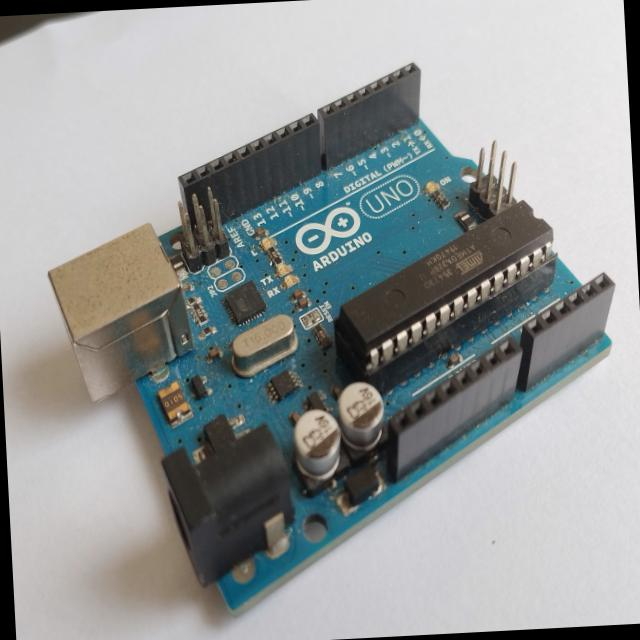arduino: (51, 56, 632, 634)
